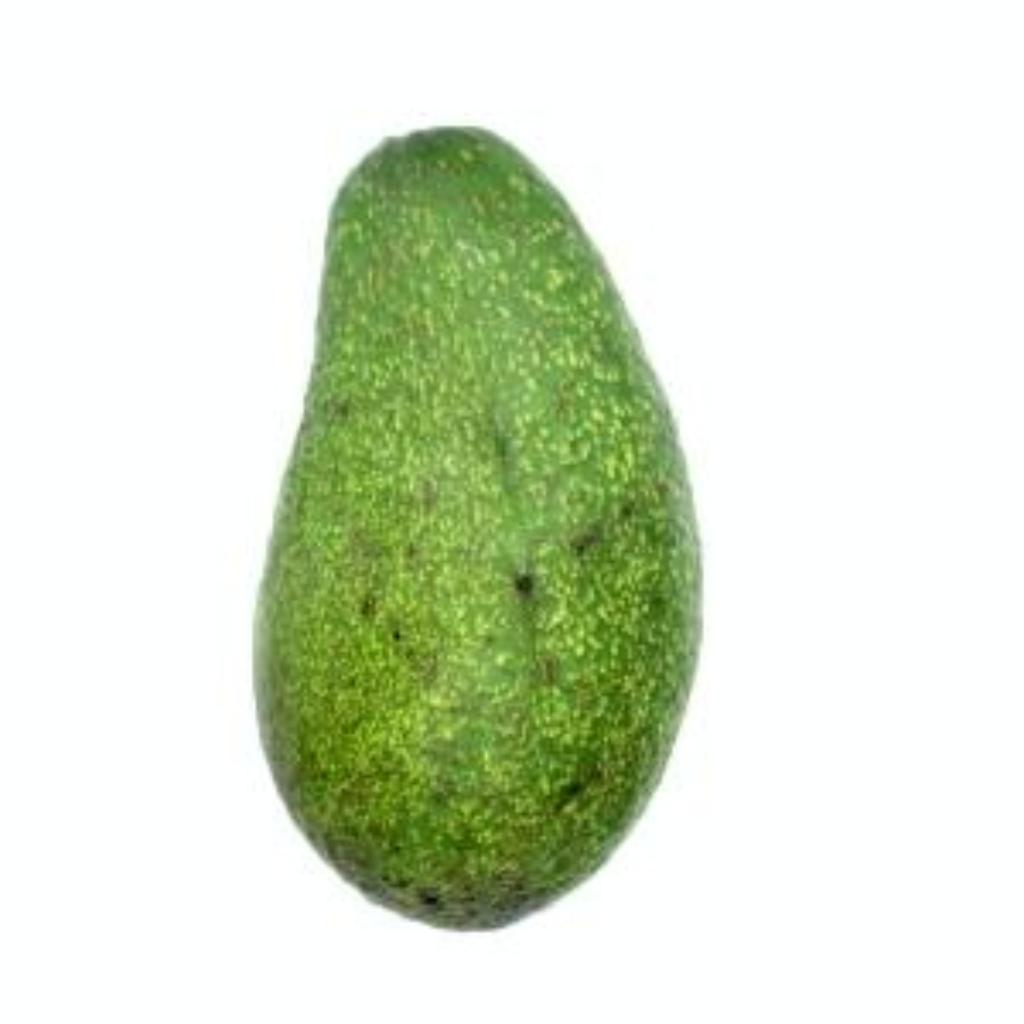cercospora_spot: (217, 116, 709, 932)
